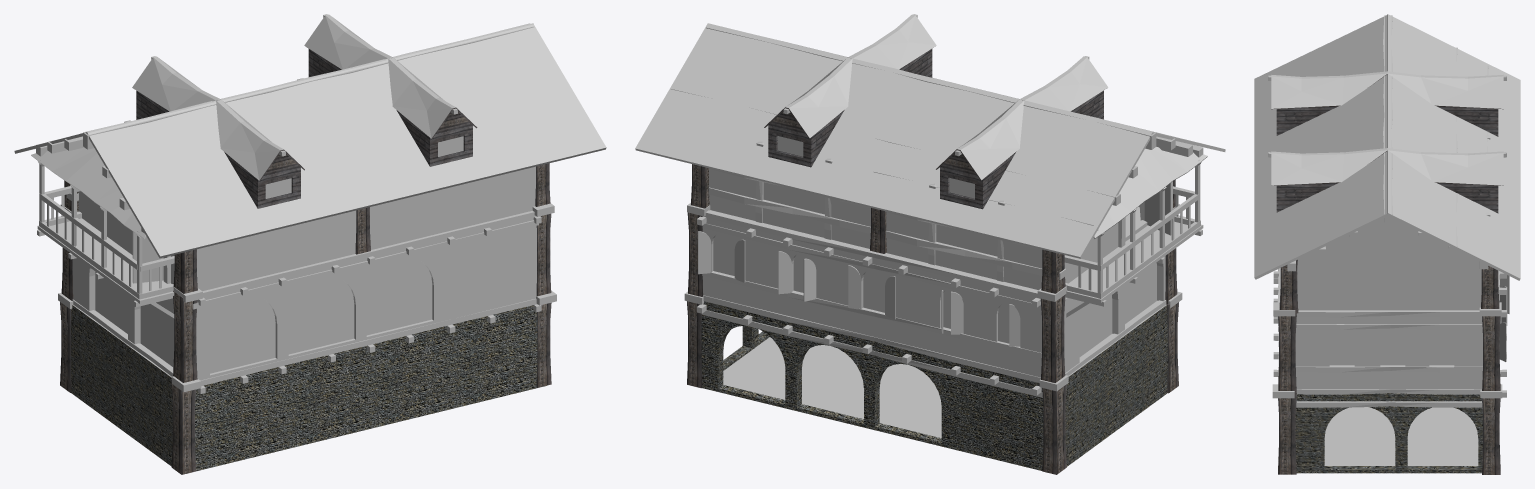
File: tavern.dae
The picture shows the model from 3 angles, left to right: view 1: azimuth 30°, elevation 25°; view 2: azimuth 150°, elevation 25°; view 3: azimuth 270°, elevation 25°; orthographic projection. The views are drawn at different scales.
Visible parts, largest first — view 1: house; view 2: house; view 3: house.
Part boxes in pixels (x1=…): house: x1=14, y1=14, x2=606, y2=474; house: x1=635, y1=14, x2=1225, y2=474; house: x1=1254, y1=14, x2=1520, y2=474.
Bounding box in the file's own units: 28.1 × 18.47 × 15.86.
